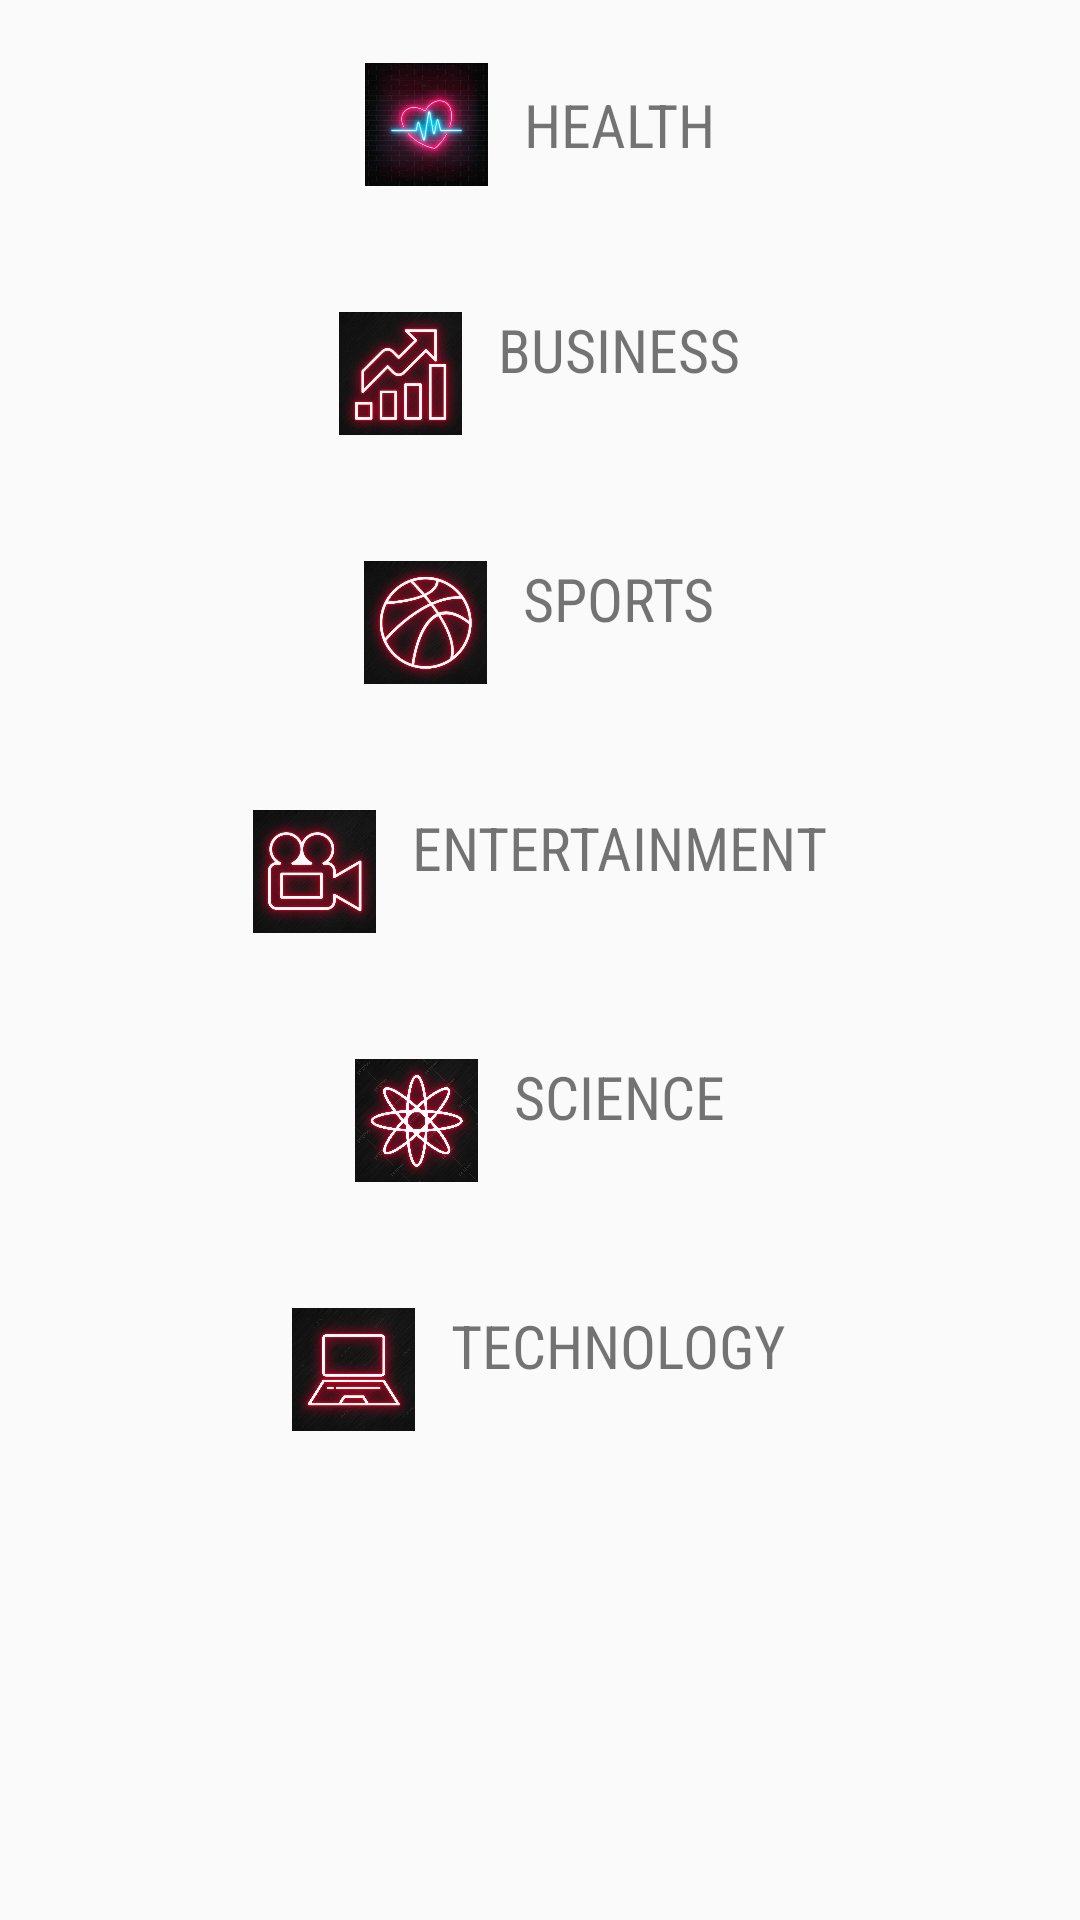

Icons on this 1080*1920 Android screen, each with its box as (x1, y1, x2, y2):
cinema: (253, 810, 376, 933)
